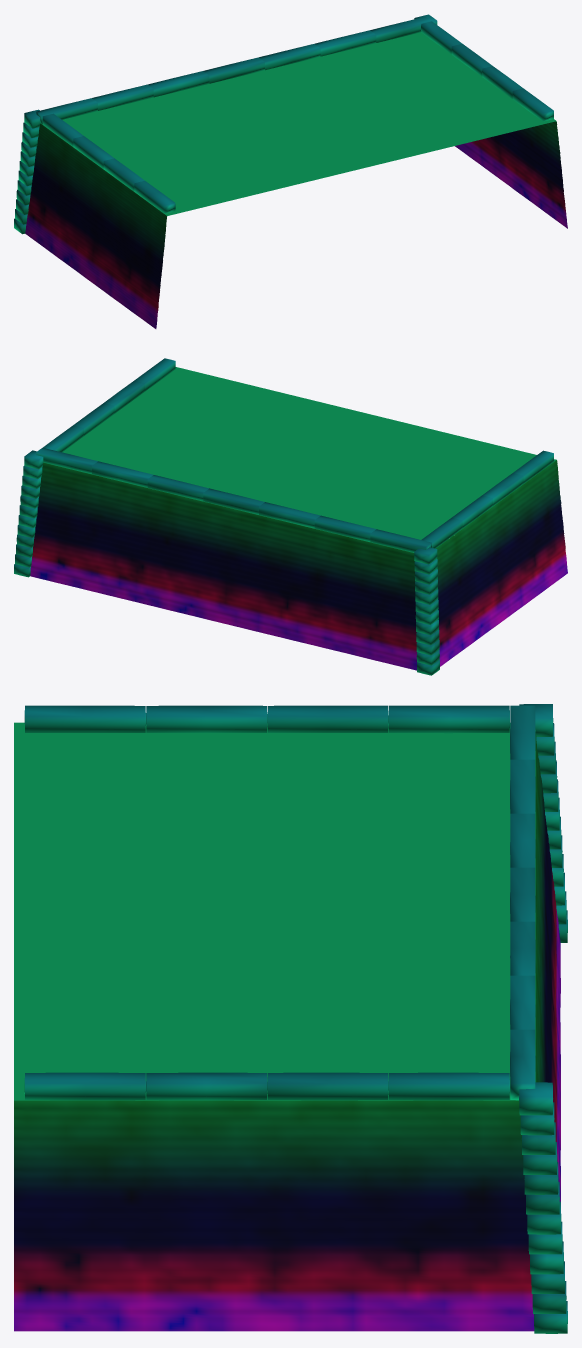
File: bastion_platform.glb
3 renders of one model, top to bottom at view 1: azimuth 30°, elevation 25°; view 2: azimuth 150°, elevation 25°; view 3: azimuth 270°, elevation 25°, orthographic. The views are drawn at different scales.
Visible parts, largest first — view 1: bastion_platform; view 2: bastion_platform; view 3: bastion_platform.
Boxes of the visible parts, box(x1,y1,x2,y2) form: bastion_platform: box(14, 14, 567, 328); bastion_platform: box(14, 358, 567, 675); bastion_platform: box(14, 704, 567, 1333).
Size of what is drawn, in the model's own units: 45.04 by 12.31 by 26.02.
